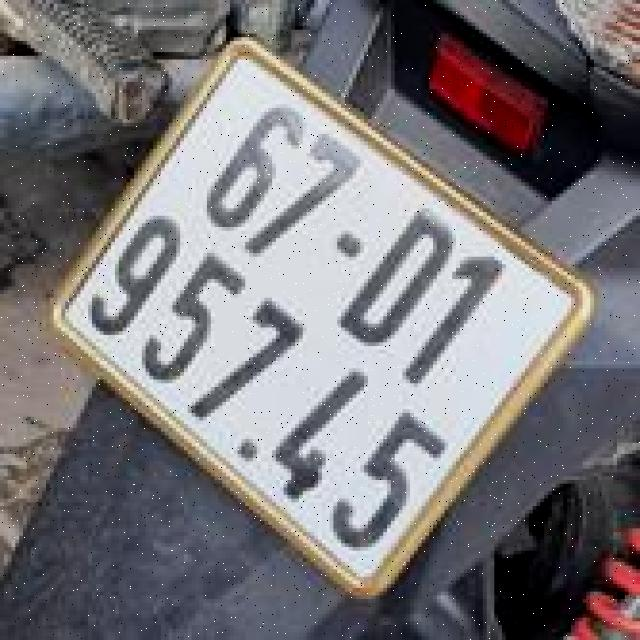1: (382, 233, 523, 402)
4: (251, 353, 399, 512)
5: (313, 396, 464, 569), (125, 242, 261, 393)
6: (190, 91, 322, 242)
7: (173, 287, 320, 441), (236, 125, 372, 272)
9: (71, 201, 200, 350)
D: (330, 192, 479, 363)
